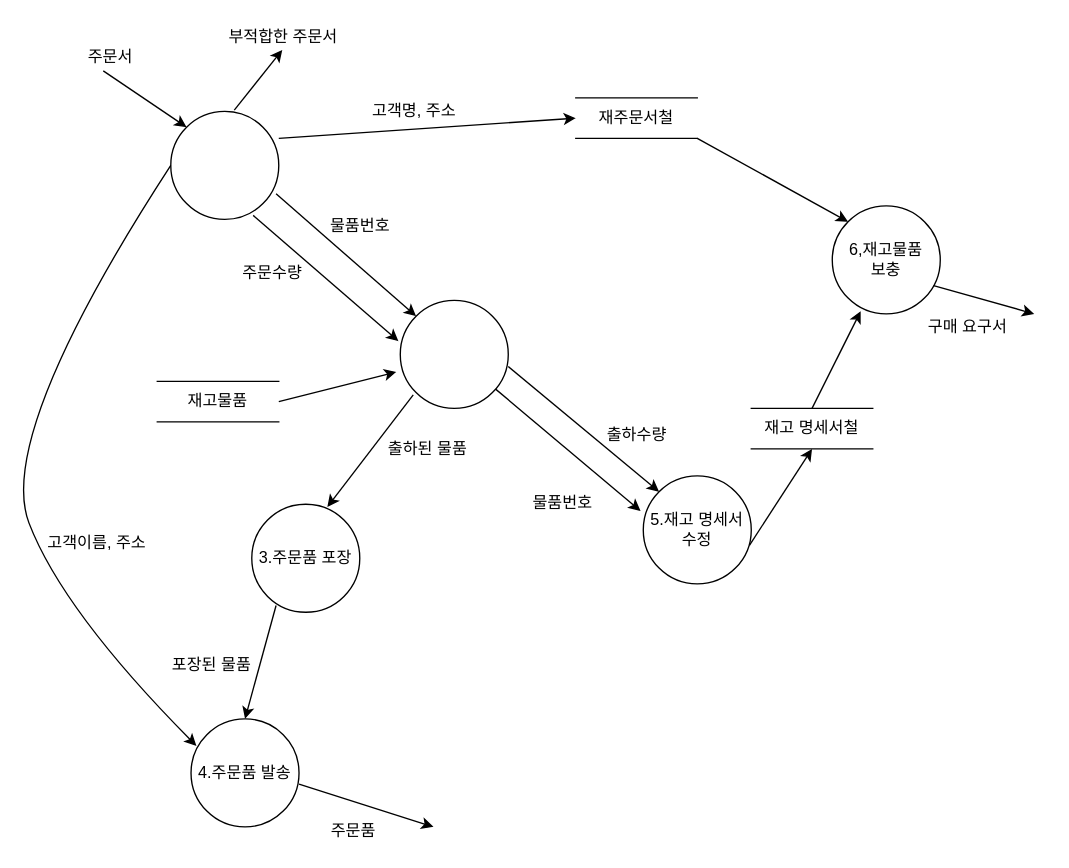
The diagram is 1069 pixels wide and 868 high, and some of its shapes have lost their labels. Each missing label, with the box of its shape:
1.주문서 확인: (169, 110, 279, 219)
2,재고물품 출하: (399, 299, 508, 408)
